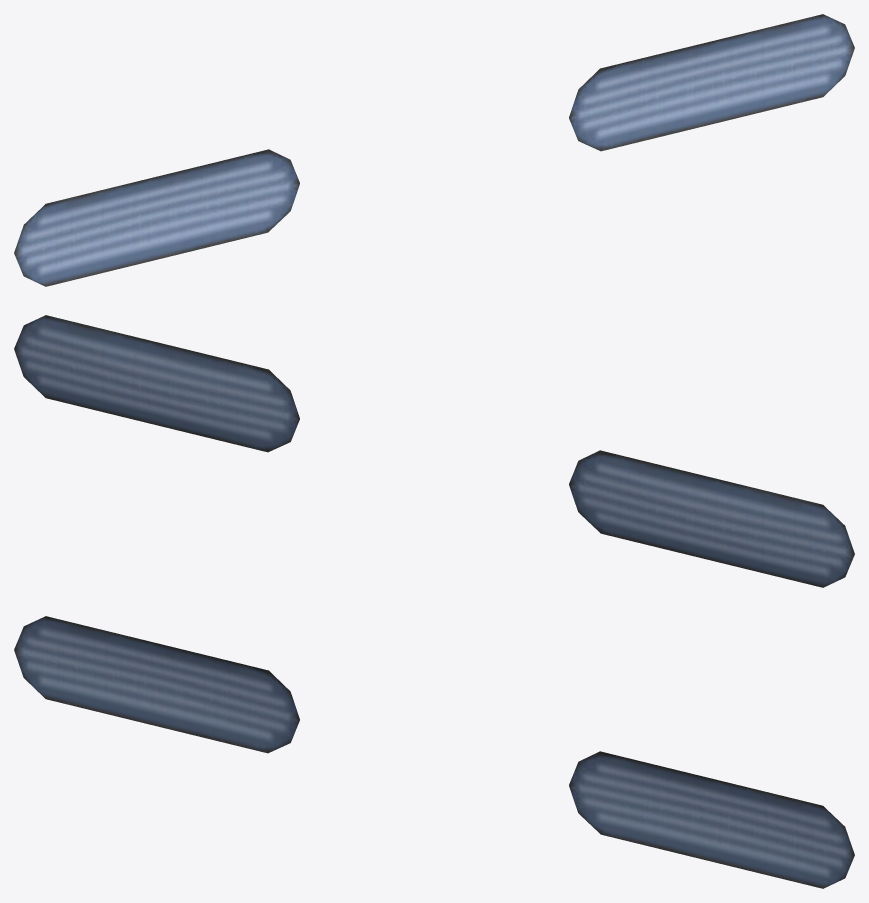
Rendered from imperial_gunboat_engine_on_l1.fbx.
3 views of the same model, one above another, from view 1: azimuth 30°, elevation 25°; view 2: azimuth 150°, elevation 25°; view 3: azimuth 330°, elevation 25° (orthographic).
Parts seen in each view (by area): view 1: mesh_node; view 2: mesh_node; view 3: mesh_node.
Boxes of the visible parts, box(x1,y1,x2,y2) form: mesh_node: box(14, 14, 854, 286); mesh_node: box(14, 315, 854, 587); mesh_node: box(14, 616, 854, 888).
Size of the model in its own units: 40.54 by 3.83 by 0.2657.
Materials: 1 (1 with a texture image).
